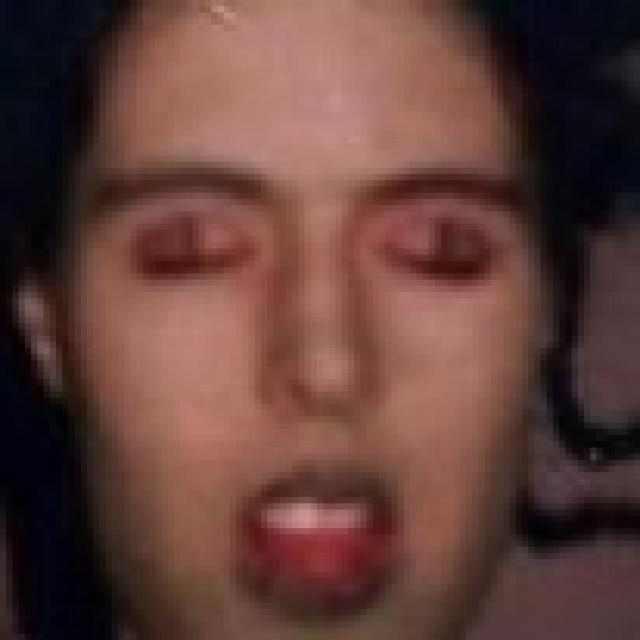Eyeclosed: (135, 224, 253, 281), (396, 220, 482, 289)
